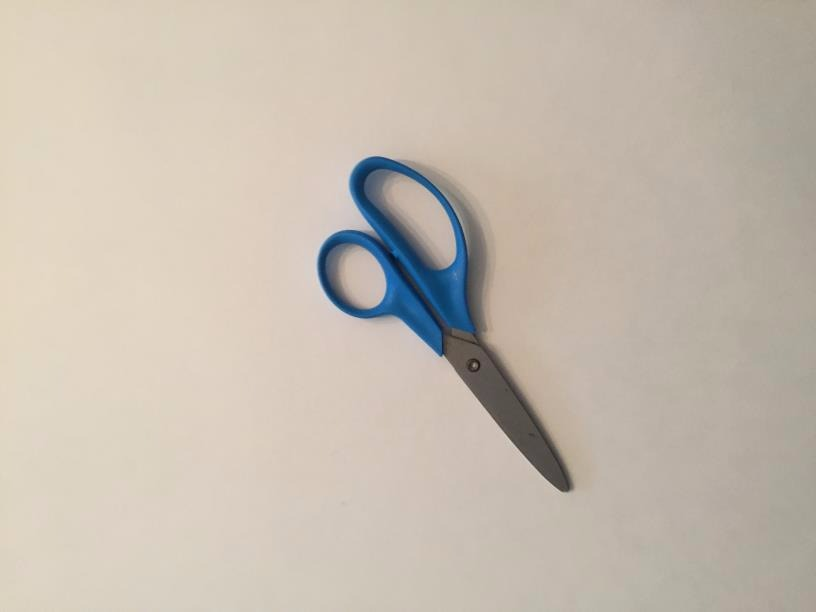scissor: (276, 105, 628, 527)
